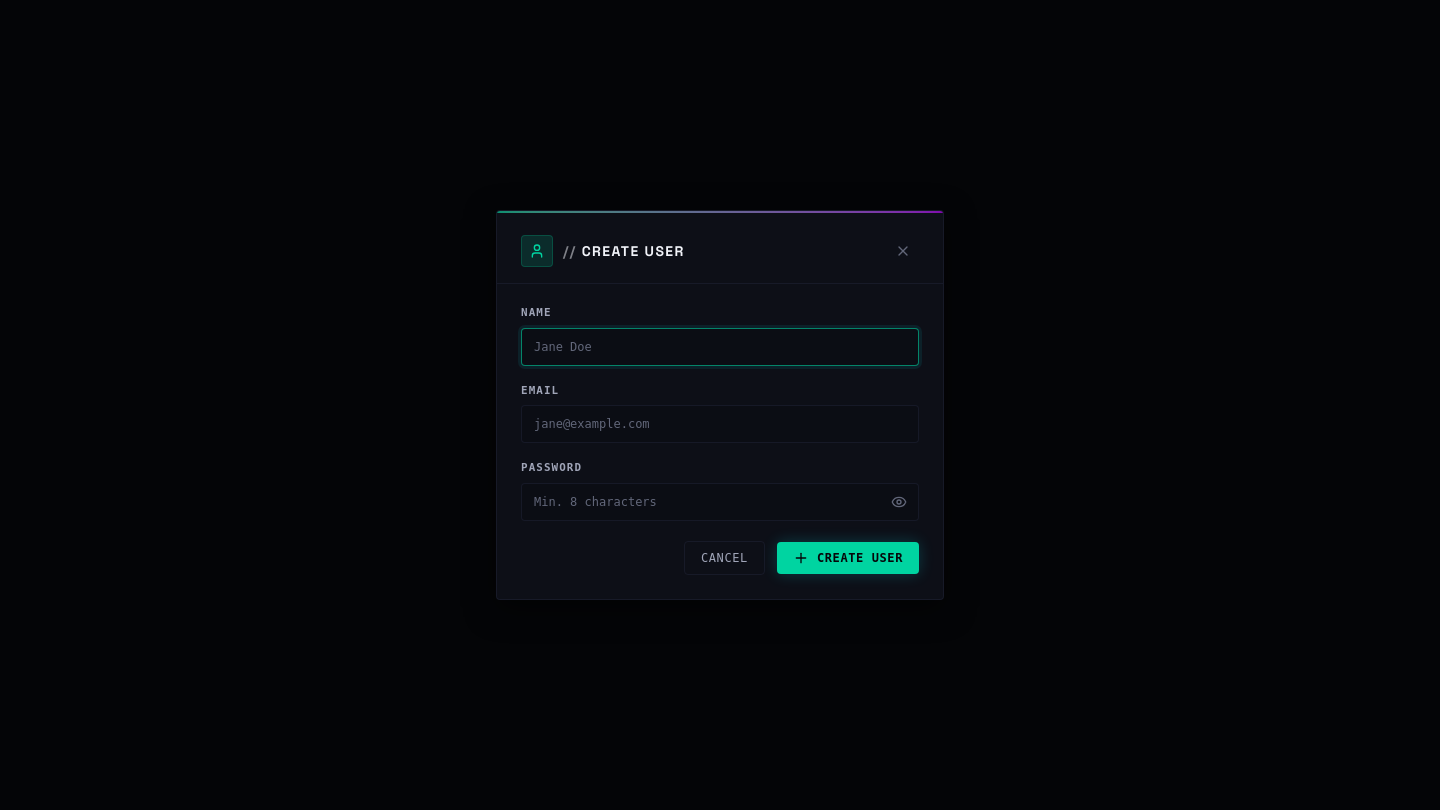
Test case: UserModal Component › Create Mode › should display validation errors for empty fields on submit
This screenshot has width=1440, height=810.
Click the button "Create User": (848, 558) [777,542,919,574]
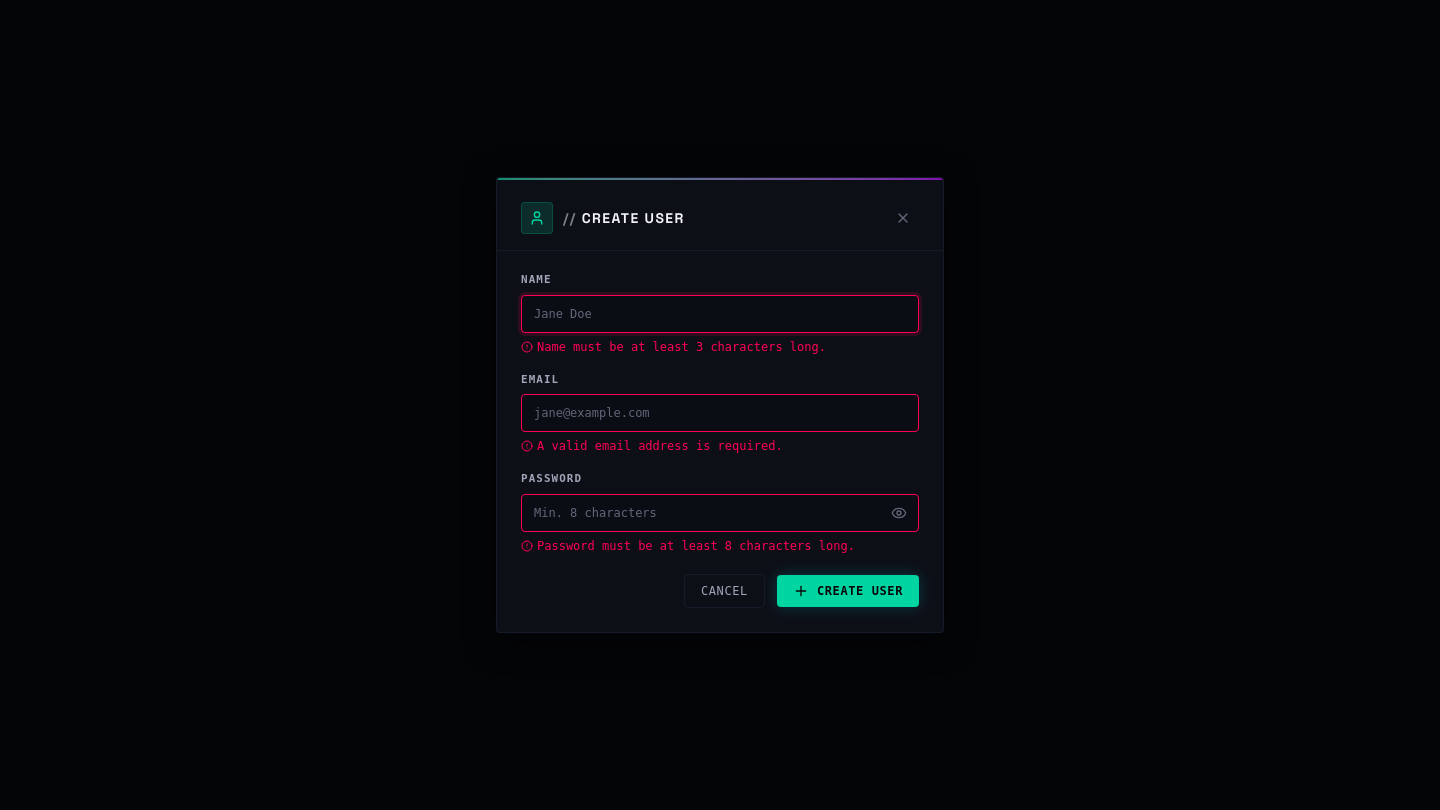
Check: the text "Name must be at least 3 characters long." is shown, box [521,340,826,354]
Check: the text "A valid email address is required." is shown, box [521,439,783,453]
Check: the text "Password must be at least 8 characters long." is shown, box [521,539,855,553]
